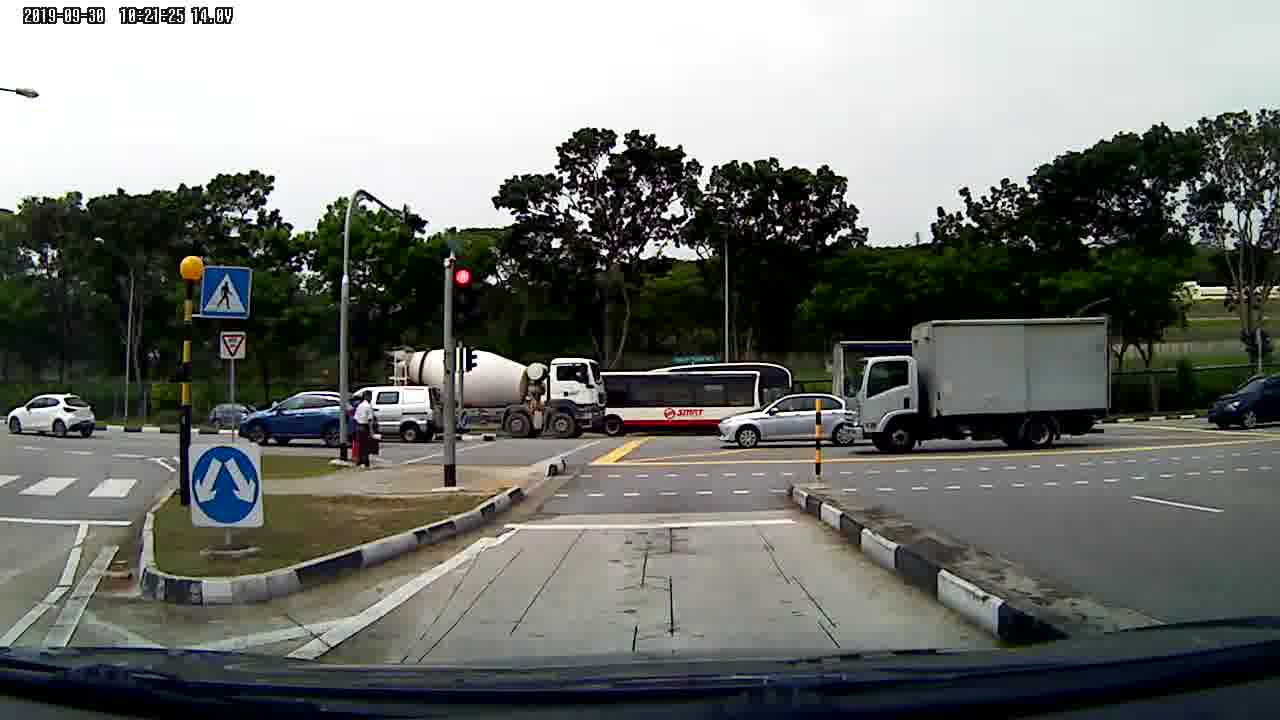bus: (601, 361, 799, 440)
car: (714, 394, 846, 447), (246, 387, 355, 448), (3, 390, 98, 443), (1205, 373, 1280, 429), (203, 403, 261, 431)
